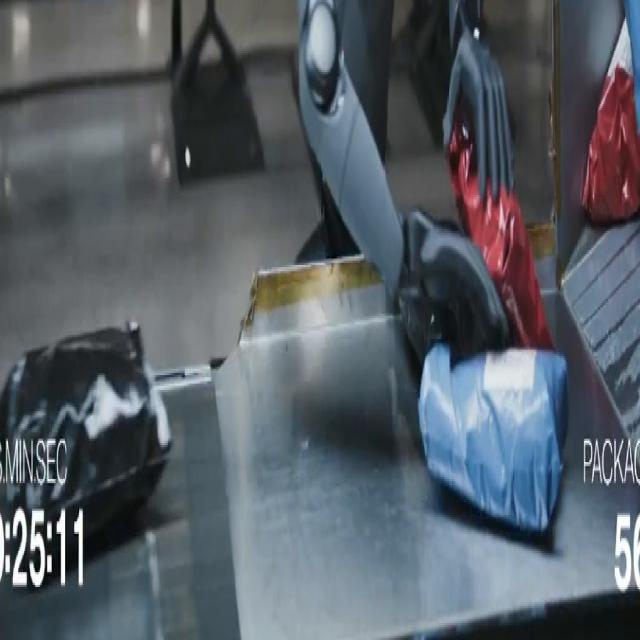package: (0, 325, 171, 538), (419, 344, 568, 534), (447, 113, 554, 349), (583, 20, 639, 224), (624, 0, 639, 78)
